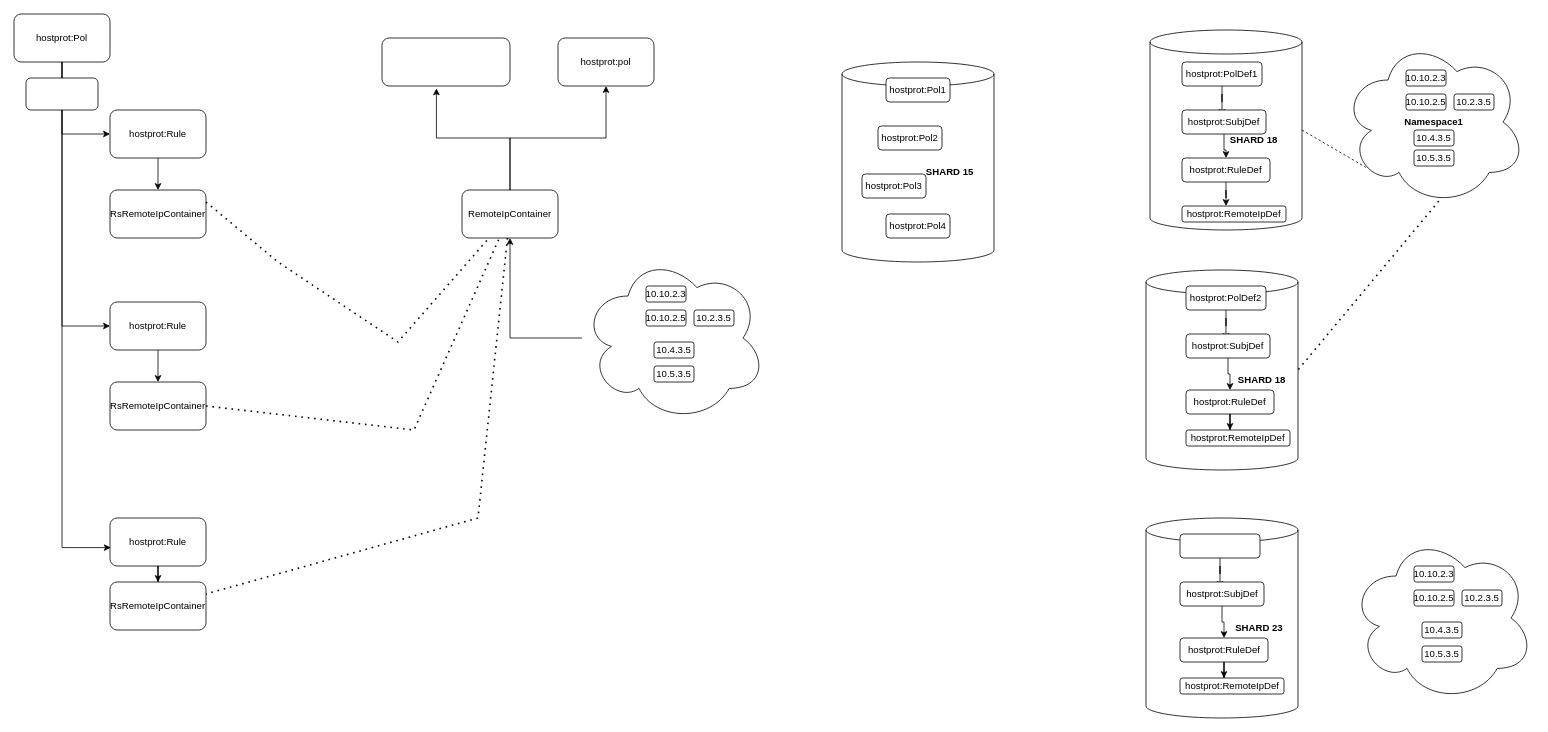
This 1548x732 diagram has some shape labels left out. Here are the shapes that lost their labels. From the top down, the centre of each, then its label:
At point 445,61: "vmm:InjectedNs".
At point 61,93: "hostprot:Subj".
At point 1219,545: "hostprot:PolDef3".
